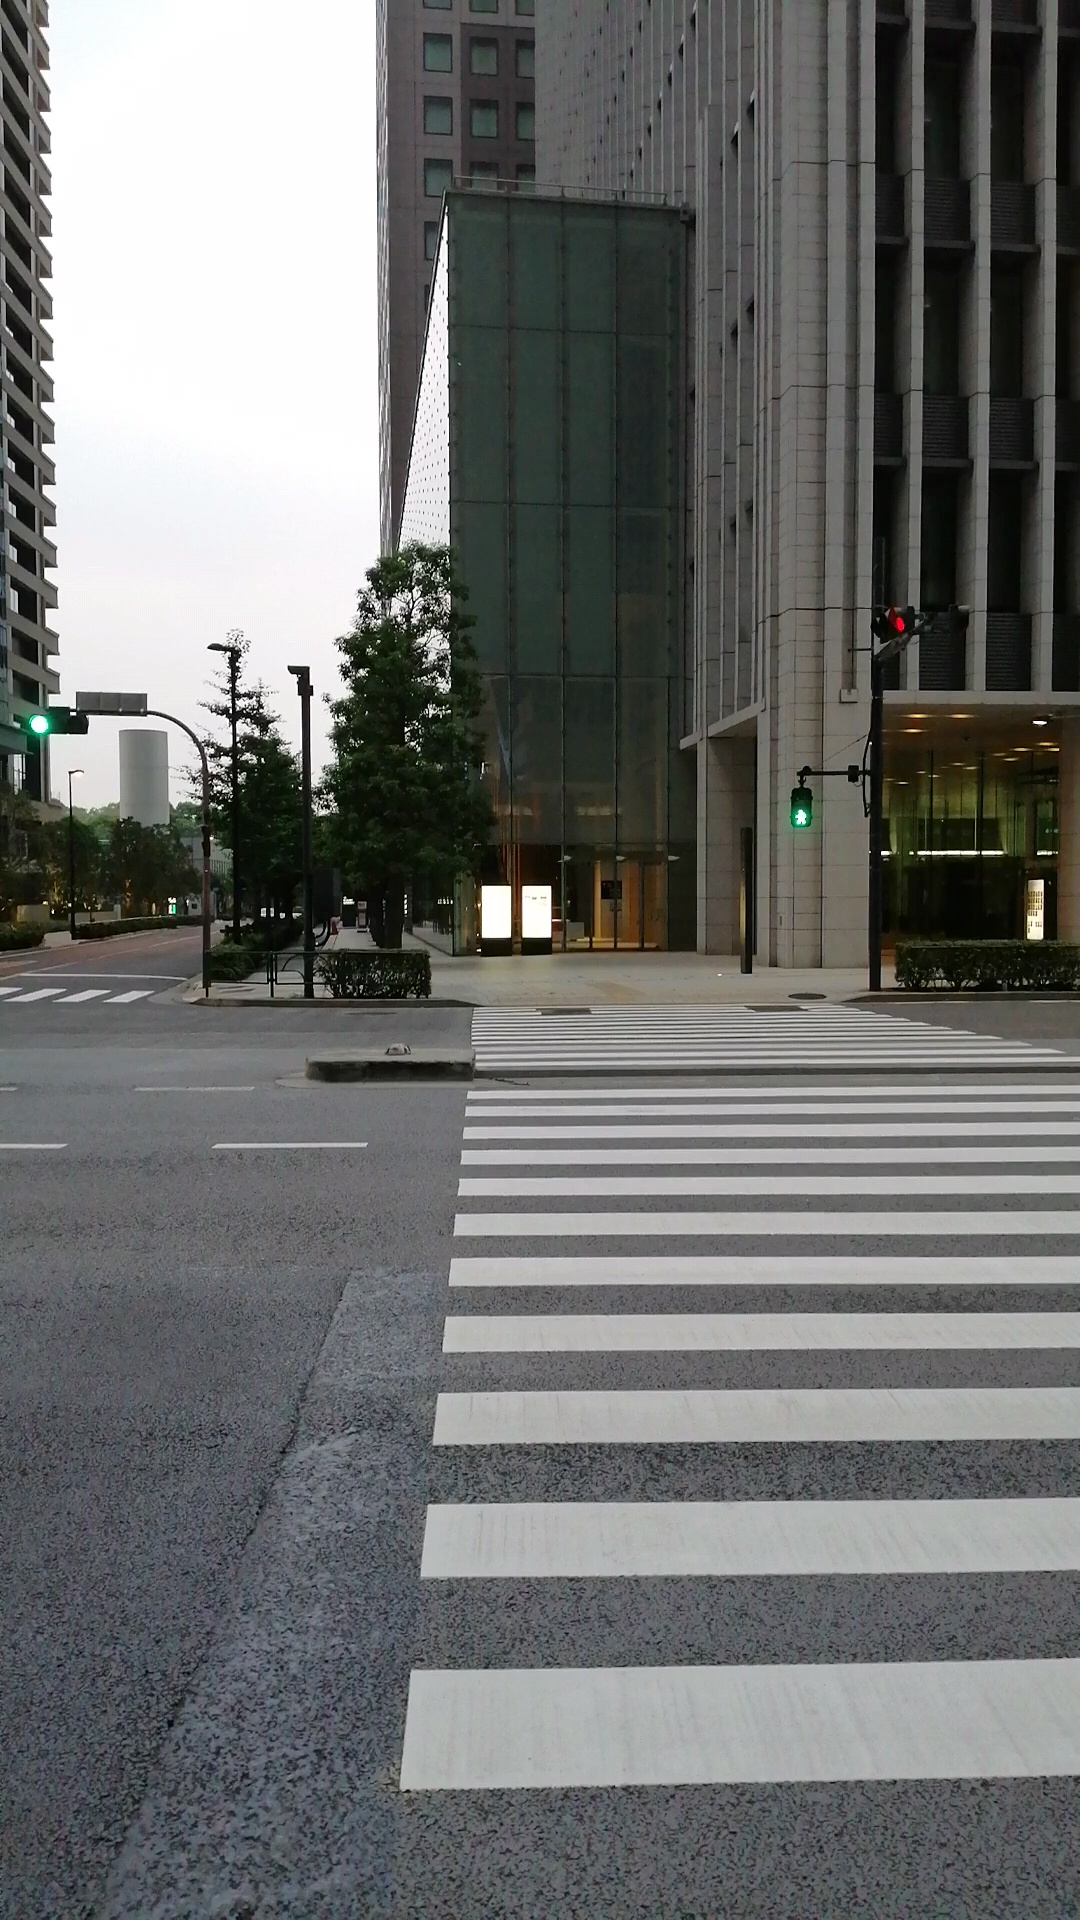green: (789, 786, 814, 829)
